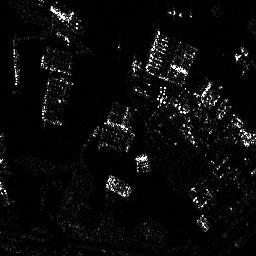ship: (11, 48, 20, 87)
